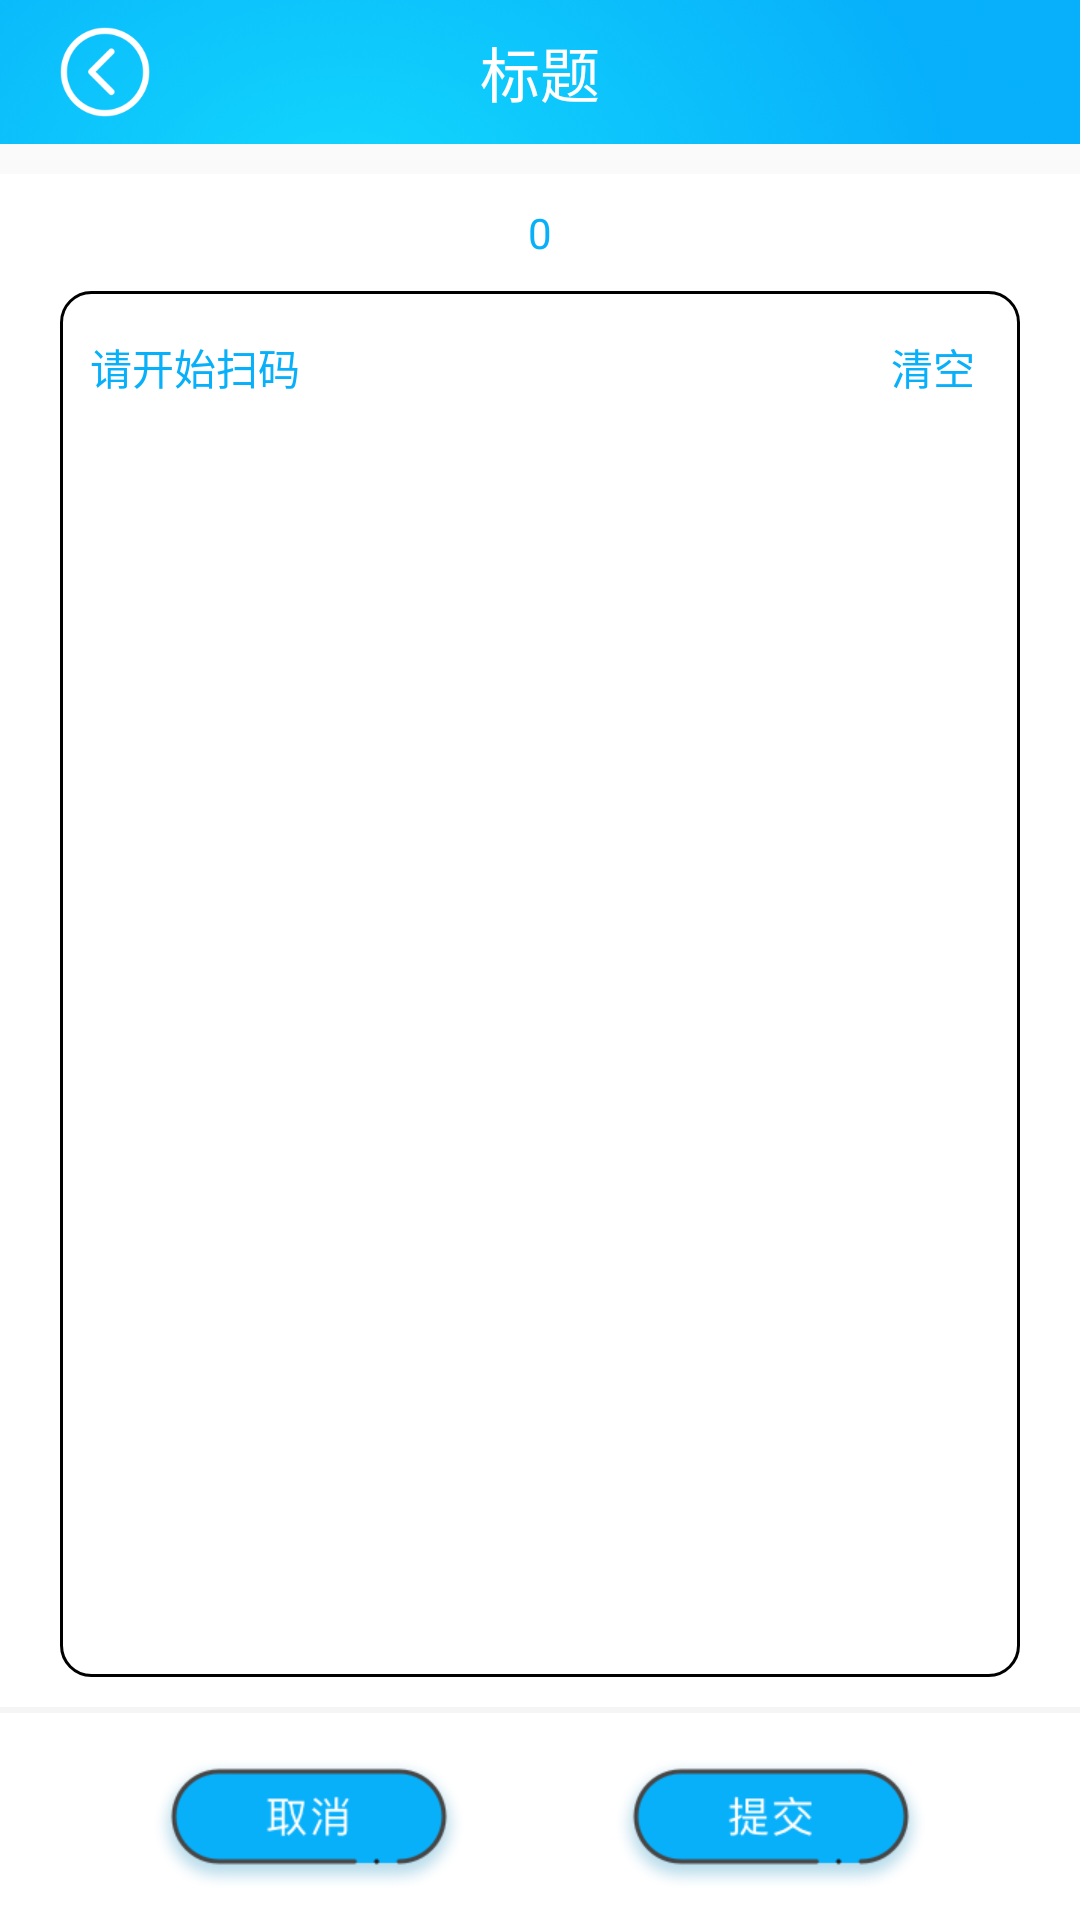

Icons on this 1080x1920 Android screen, each with its box as (x1, y1, x2, y2):
back: (60, 27, 150, 117)
